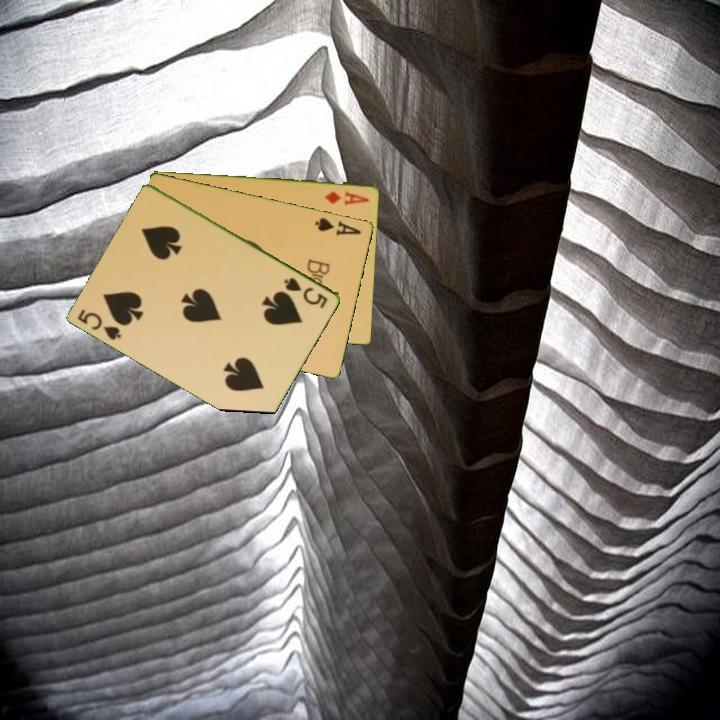5s: (280, 274, 331, 312), (74, 305, 125, 343)
Ad: (322, 187, 372, 208)
As: (312, 214, 364, 238)
